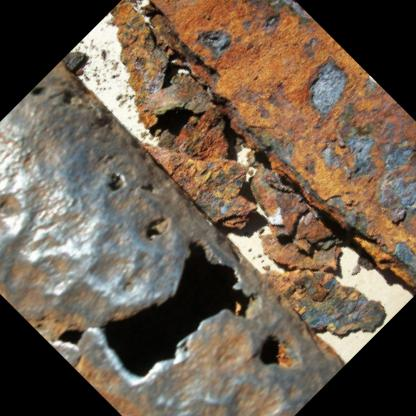burst: (102, 233, 249, 378)
